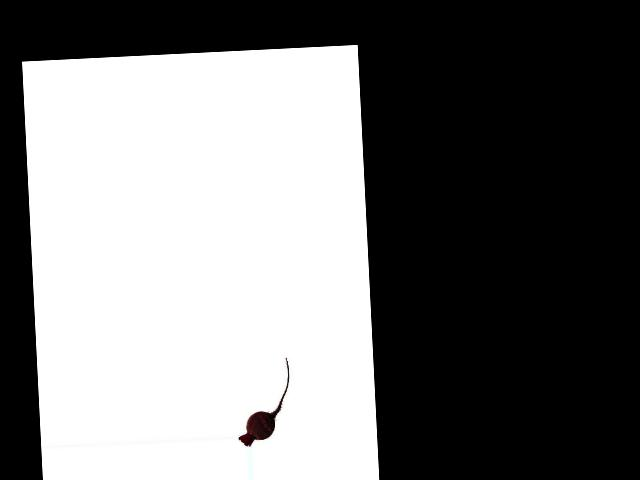beet: (234, 357, 293, 446)
